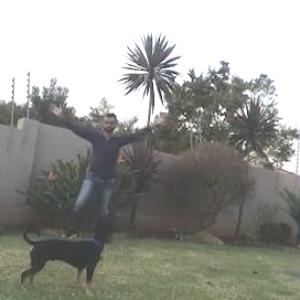takeoff: (56, 107, 176, 239)
